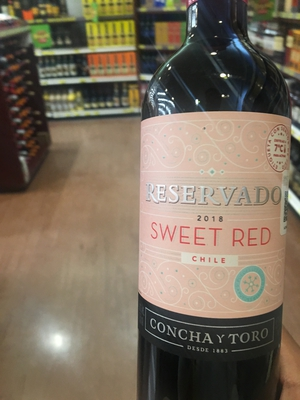reservado sweet red: (131, 27, 299, 400)
